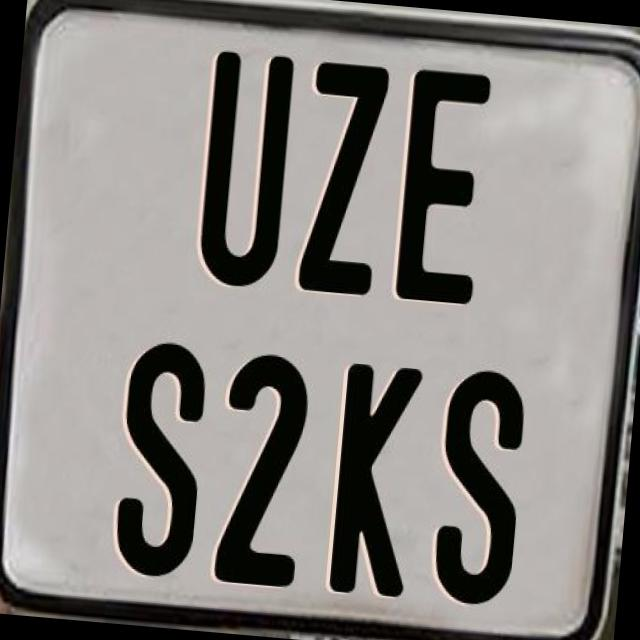2: (208, 346, 314, 586)
E: (395, 64, 493, 302)
K: (328, 358, 424, 597)
S: (110, 334, 212, 577), (431, 363, 528, 608)
U: (196, 50, 294, 294)
Z: (294, 58, 394, 302)
